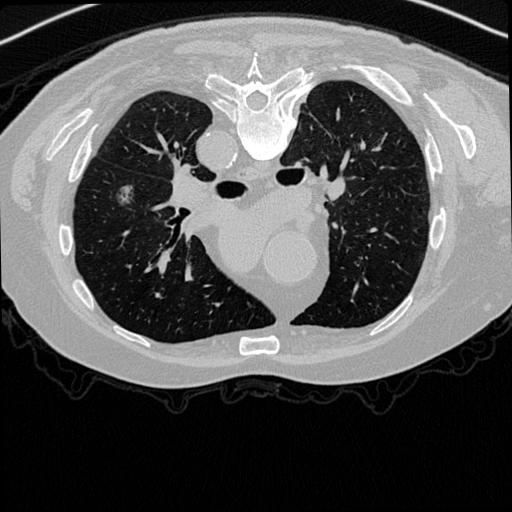nodule: (115, 185, 138, 208)
